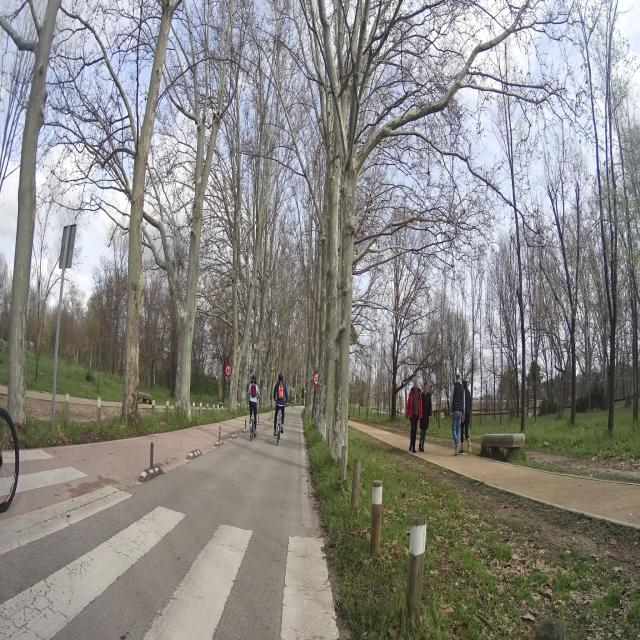bike: (273, 392, 285, 447)
